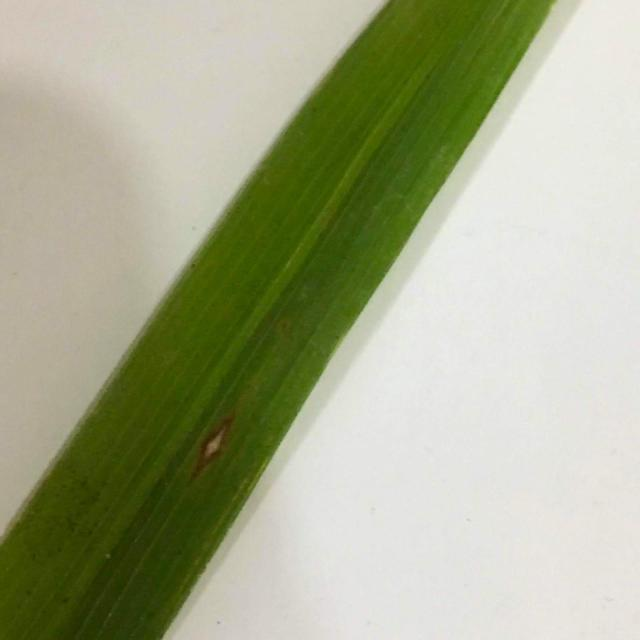Leaf blast: (163, 403, 241, 481)
